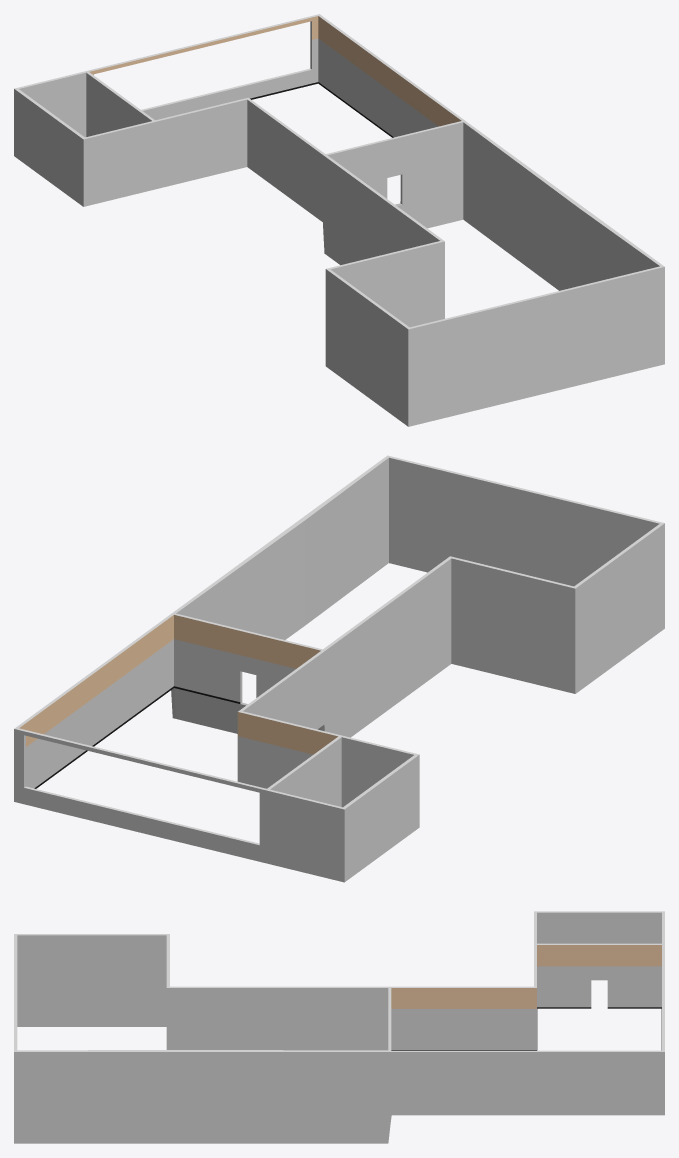
File: Brewery.fbx
3 views of the same model, one above another, from view 1: azimuth 30°, elevation 25°; view 2: azimuth 150°, elevation 25°; view 3: azimuth 270°, elevation 25° (orthographic). The views are drawn at different scales.
Visible parts, largest first — view 1: Brewery; view 2: Brewery; view 3: Brewery.
Part boxes in pixels (x1=…): Brewery: x1=14, y1=14, x2=664, y2=426; Brewery: x1=14, y1=455, x2=664, y2=882; Brewery: x1=14, y1=911, x2=664, y2=1143.
Size of the model in its own units: 2132 by 650 by 4173.
